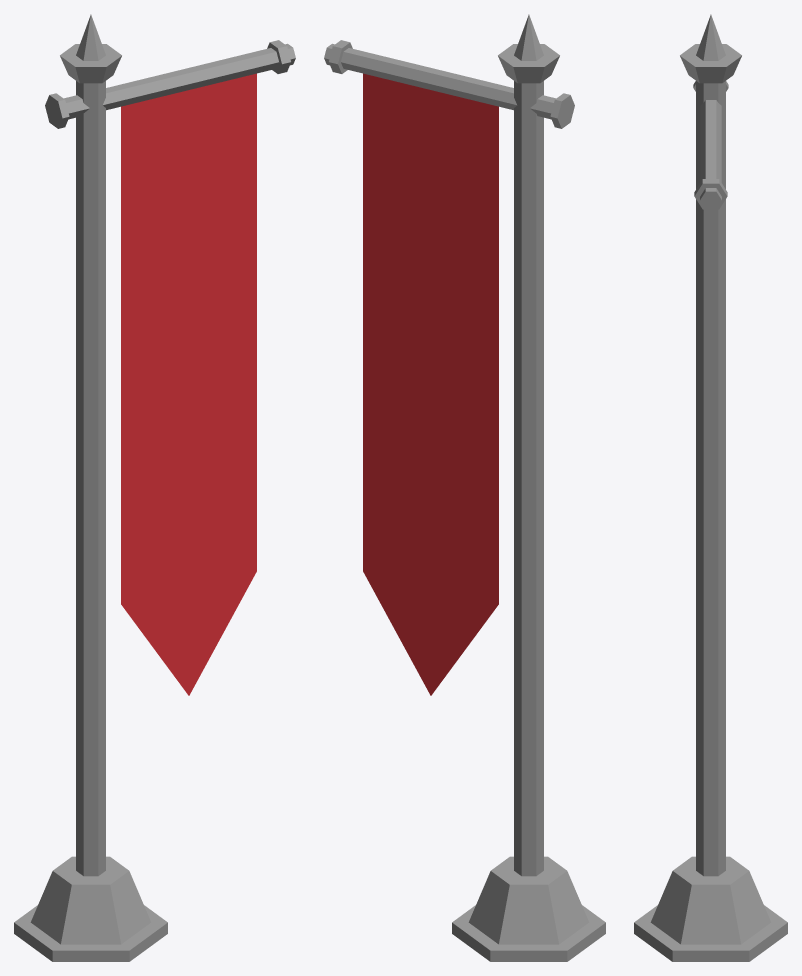
File: 中旗子.fbx
3 renders of one model, left to right at view 1: azimuth 30°, elevation 25°; view 2: azimuth 150°, elevation 25°; view 3: azimuth 270°, elevation 25°, orthographic.
Visible parts, largest first — view 1: Plane.006, Circle, Cylinder.009; view 2: Plane.006, Circle, Cylinder.009; view 3: Circle, Cylinder.009.
Boxes of the visible parts, <box> form: Plane.006: <box>121,73,256,695</box>; Circle: <box>14,14,167,961</box>; Cylinder.009: <box>45,40,295,128</box>; Plane.006: <box>363,73,498,695</box>; Circle: <box>452,14,605,961</box>; Cylinder.009: <box>324,40,574,128</box>; Circle: <box>634,14,787,961</box>; Cylinder.009: <box>693,81,728,209</box>.
Bounding box in the file's own units: 114 × 388 × 58.86.
